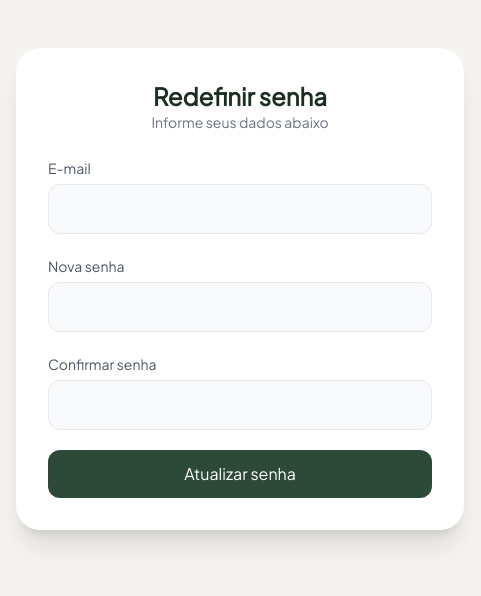
Test: ResetPasswordView.vue › performs successful reset when passwords match
The image size is (481, 596).
Type "test@email.com" into the field at (240, 209), box [48, 184, 432, 234]
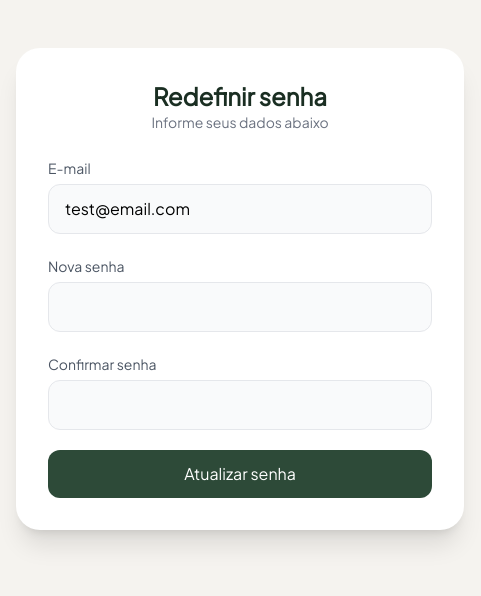
Type "newpwd123" into the password field below "Nova senha" at (240, 307), box [48, 282, 432, 332]
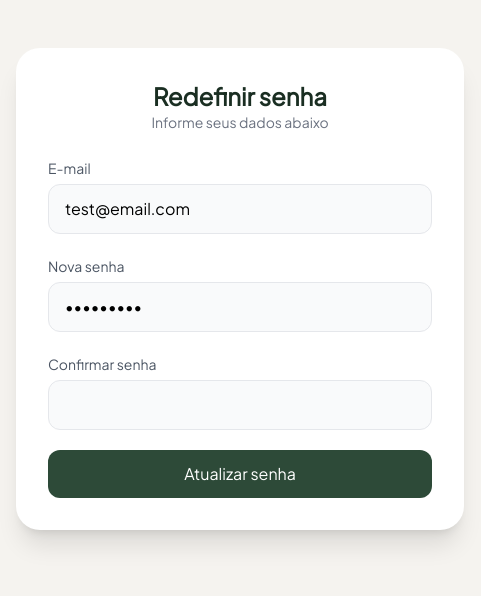
Type "newpwd123" into the password field below "Confirmar senha" at (240, 405), box [48, 380, 432, 430]
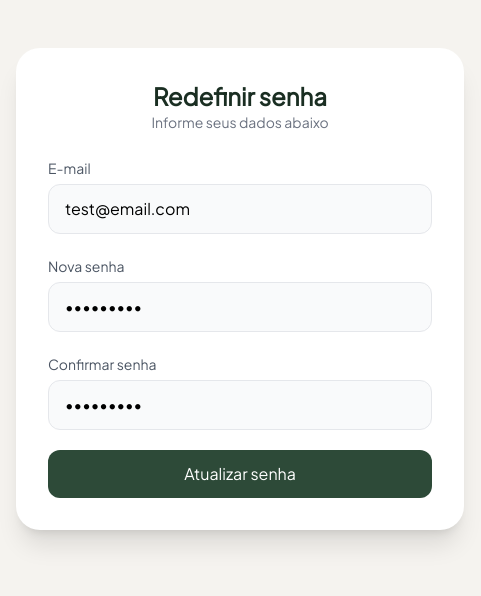
Submit the form, box [48, 156, 432, 498]
Wait 2000 ms
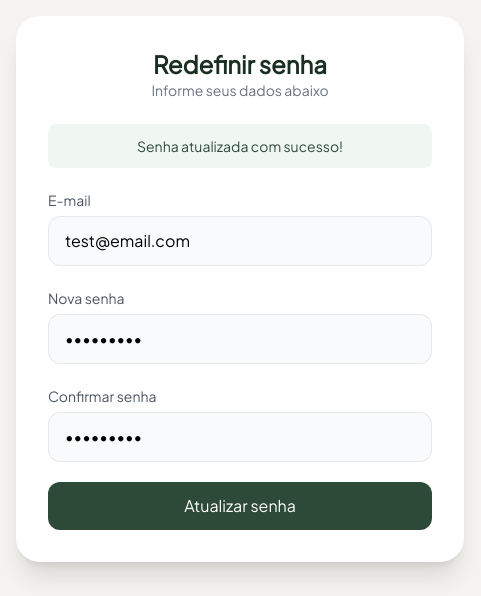
Expected: the text "Senha atualizada com sucesso" is shown, [137, 137, 343, 155]
